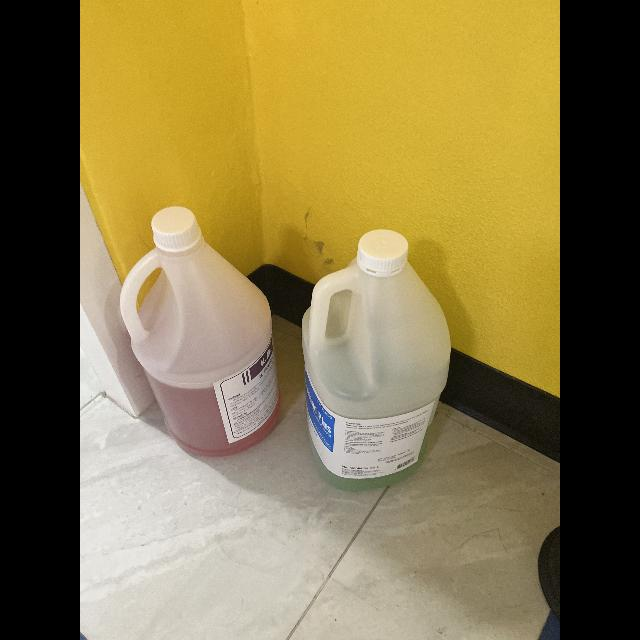chemical_plastic_gallon: (118, 200, 286, 462), (298, 222, 456, 496)
